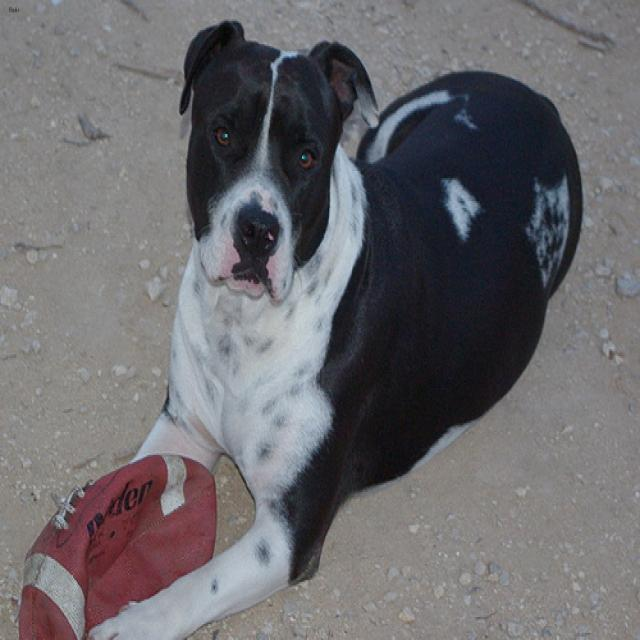dog-american_pit_bull_terrier: (79, 11, 595, 636)
